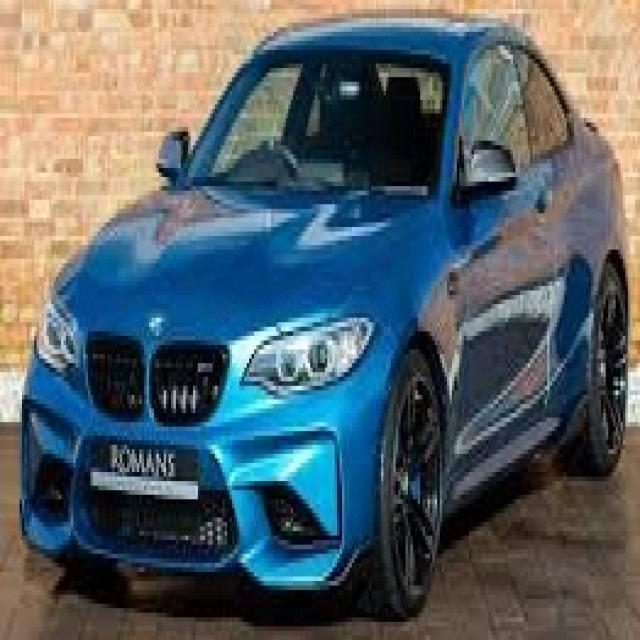blue: (23, 12, 621, 640)
